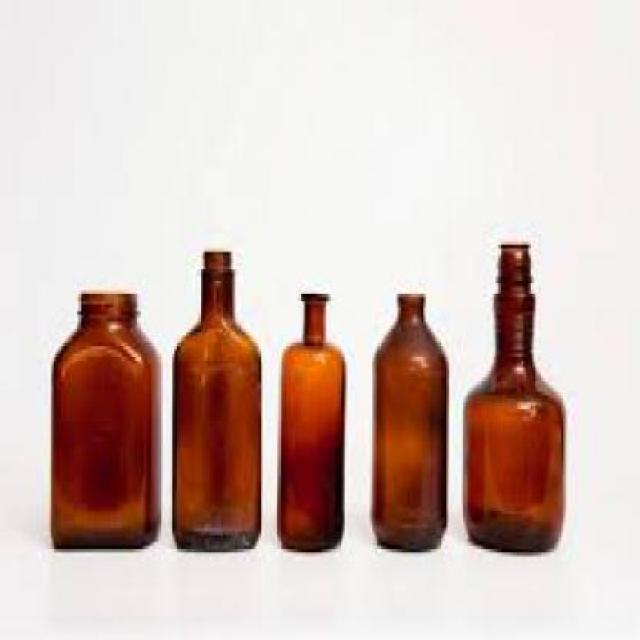kaca: (462, 242, 563, 549), (49, 291, 160, 549), (170, 248, 262, 549), (372, 291, 445, 552), (275, 291, 343, 552)
